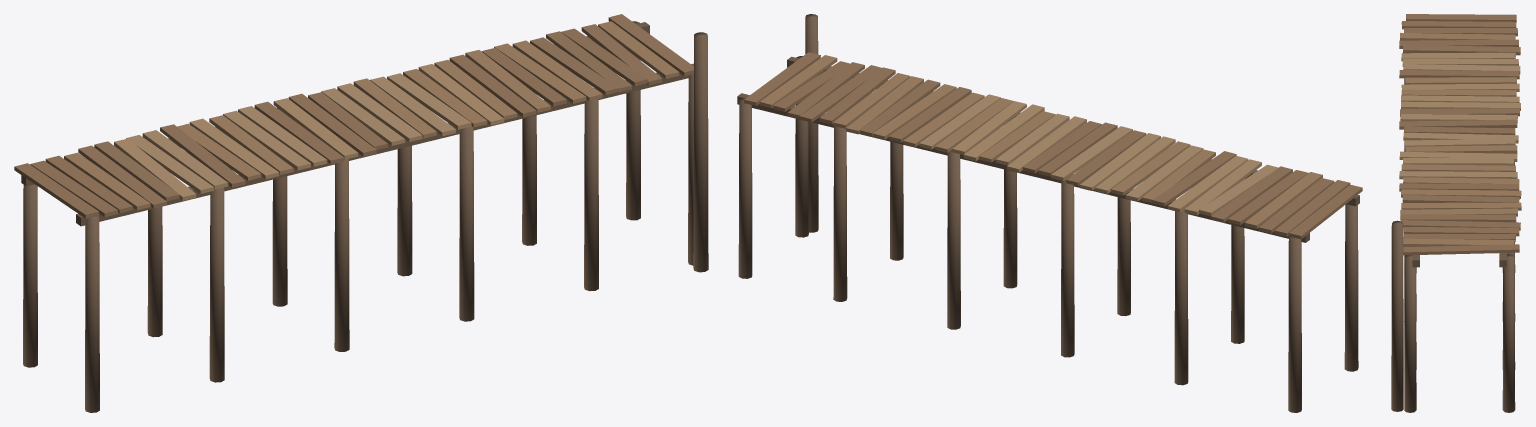
File: pontoon.glb
3 views of the same model, side by side, from view 1: azimuth 30°, elevation 25°; view 2: azimuth 150°, elevation 25°; view 3: azimuth 270°, elevation 25° (orthographic). The views are drawn at different scales.
Parts seen in each view (by area): view 1: Pontoon; view 2: Pontoon; view 3: Pontoon.
Boxes of the visible parts, left/top/right/bottom form: Pontoon: left=14, top=14, right=708, bottom=412; Pontoon: left=737, top=14, right=1362, bottom=412; Pontoon: left=1391, top=14, right=1521, bottom=412.
Size of the model in its own units: 12.02 by 4.3 by 2.73.
